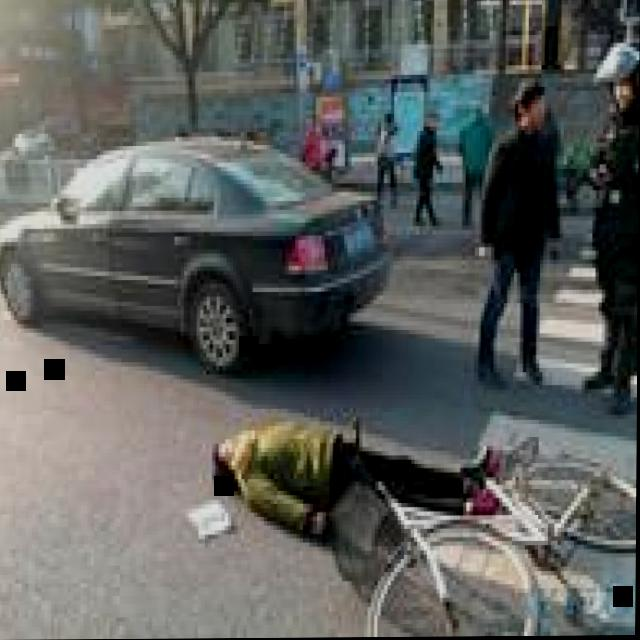Fall-Detected: (205, 373, 494, 583)
